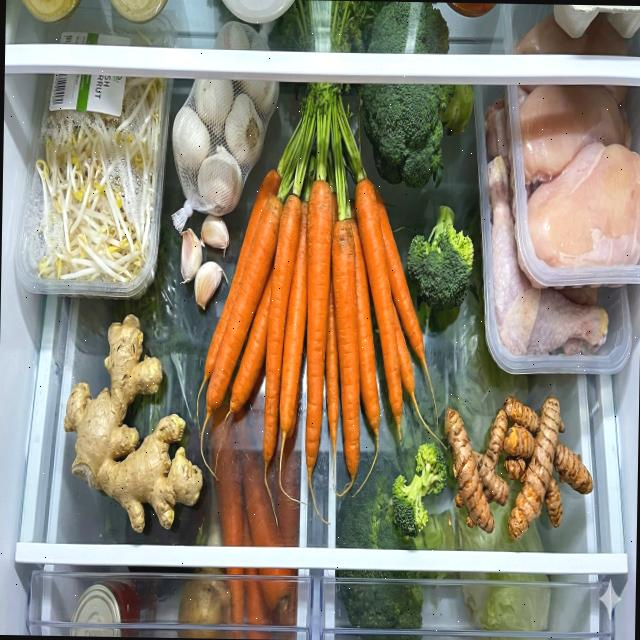bean_sprouts: (34, 71, 165, 282)
brocolli: (335, 454, 458, 640), (359, 1, 475, 192), (406, 205, 475, 312), (390, 442, 448, 538)
carrot: (202, 166, 428, 481), (206, 404, 302, 640)
chicken: (481, 96, 612, 360), (516, 83, 640, 268)
garlic: (170, 78, 279, 218), (178, 213, 230, 310)
ginger: (62, 312, 205, 532)
turmeric: (442, 390, 595, 542)
